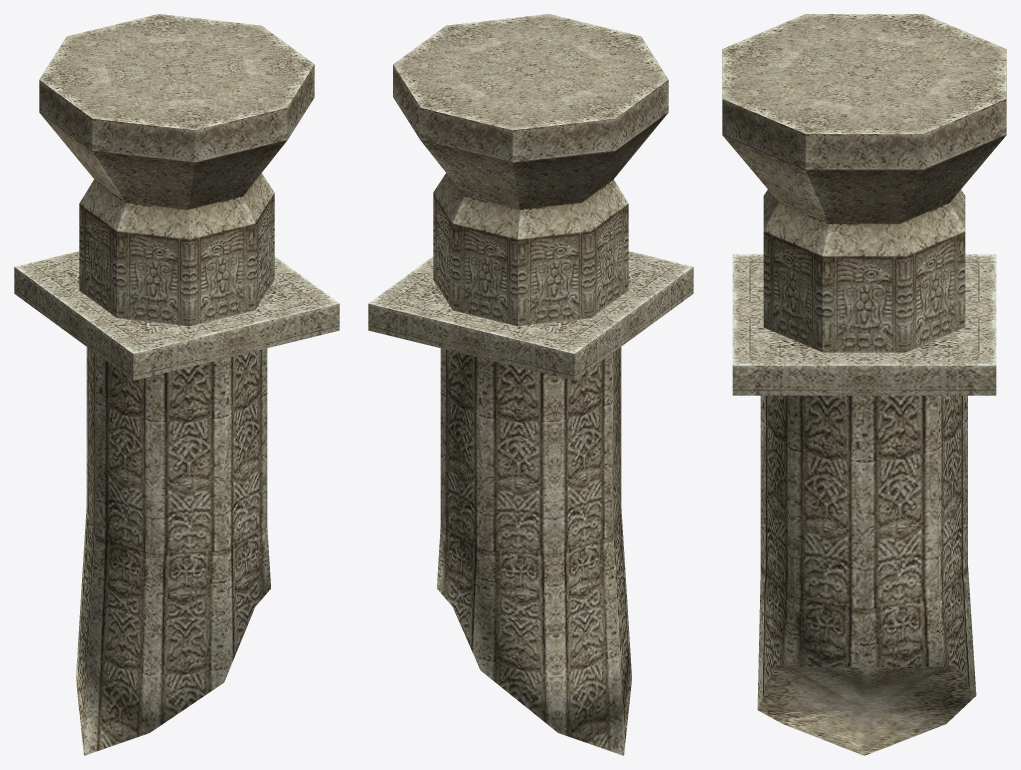
File: general_obj_bigtoewr02.fbx
3 views of the same model, side by side, from view 1: azimuth 30°, elevation 25°; view 2: azimuth 150°, elevation 25°; view 3: azimuth 270°, elevation 25° (orthographic). The views are drawn at different scales.
Parts seen in each view (by area): view 1: Sphere01; view 2: Sphere01; view 3: Sphere01.
Boxes of the visible parts, x1,y1,x2,y2 form: Sphere01: (14, 14, 339, 755); Sphere01: (368, 14, 693, 755); Sphere01: (722, 14, 1006, 755).
Bounding box in the file's own units: 4.31 × 12.3 × 4.31.
